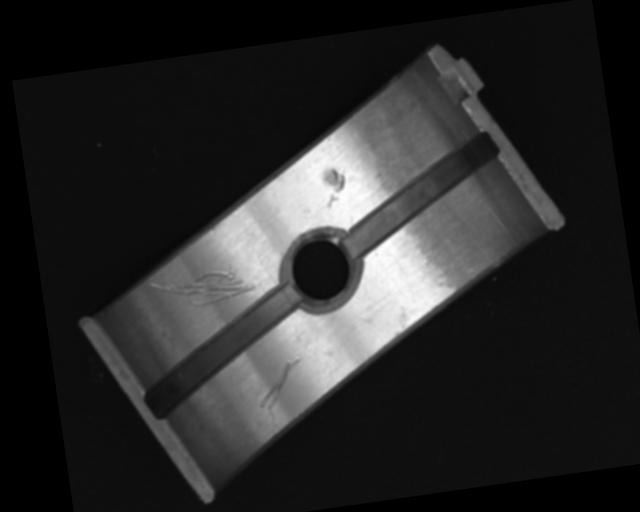bruise: (320, 165, 349, 211)
gap: (133, 284, 311, 418), (336, 130, 509, 259)
hole: (275, 226, 366, 313)
nick: (147, 264, 257, 314), (253, 356, 305, 411)
